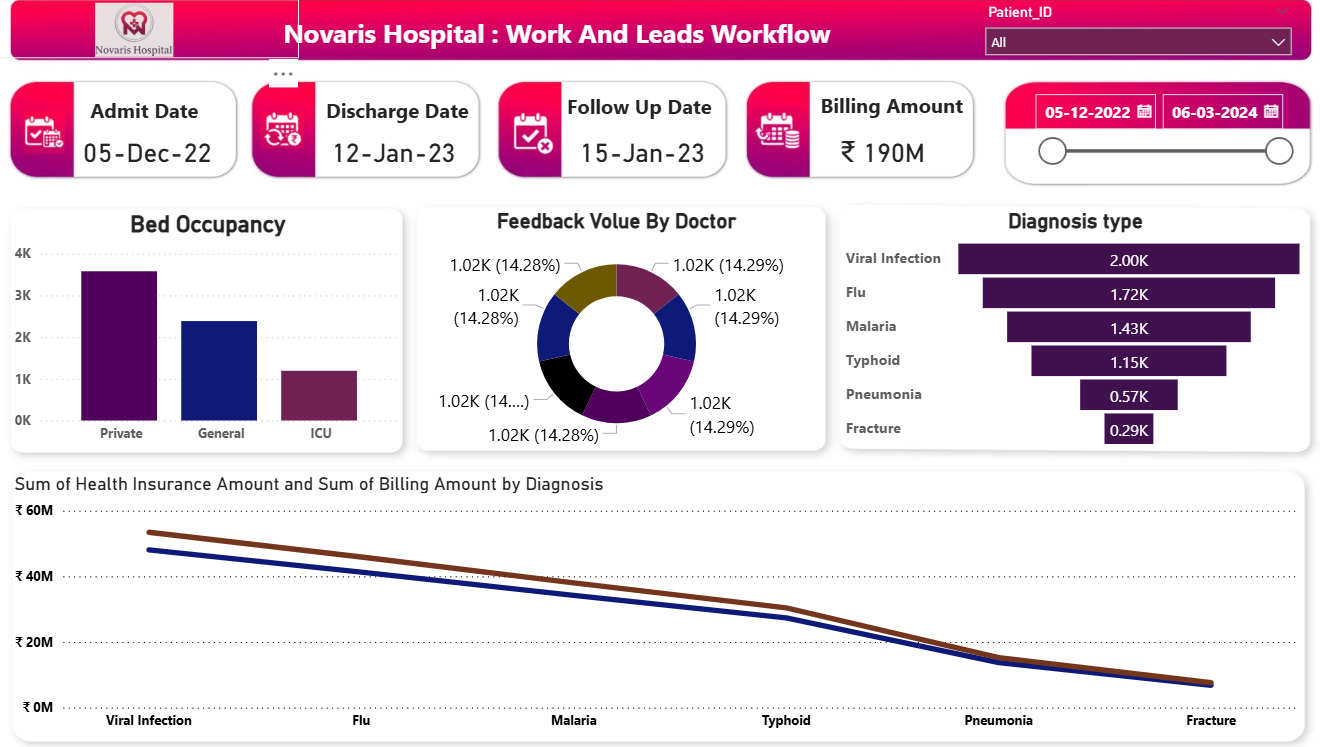

The page's visual inventory and layout, read from the dashboard file:
{"tool":"powerbi","page":{"name":"Page 1","canvas":[1280,720],"ordinal":0},"visuals":[{"type":"slicer","fields":{"Values":["Sheet1.Patient_ID"]},"box":[931,15.2,304.9,54.9],"z":0},{"type":"textbox","box":[144.2,25.6,797.7,44.2],"z":1000},{"type":"card","fields":{"Values":["Min(Sheet1.Admit_Date)"]},"box":[82.6,132.6,153.5,48.8],"z":2000},{"type":"textbox","box":[543,101.2,153.5,39.5],"z":3000},{"type":"textbox","box":[311.6,101.2,166.3,39.5],"z":4000},{"type":"card","fields":{"Values":["Min(Sheet1.Discharge_Date)"]},"box":[311.6,132.6,153.5,48.8],"z":5000},{"type":"textbox","box":[82.6,101.2,153.5,39.5],"z":6000},{"type":"card","fields":{"Values":["Min(Sheet1.Followup Date)"]},"box":[543,132.6,153.5,48.8],"z":7000},{"type":"textbox","box":[777.9,101.2,153.5,39.5],"z":8000},{"type":"card","fields":{"Values":["Sum(Sheet1.Billing Amount)"]},"box":[766.3,132.6,153.5,48.8],"z":9000},{"type":"slicer","fields":{"Values":["Sheet1.Admit_Date"]},"box":[975.6,93,260.5,80.2],"z":10000},{"type":"columnChart","title":" Bed Occupancy","fields":{"Category":["Sheet1.Bed_Occupancy"],"Y":["CountNonNull(Sheet1.Bed_Occupancy)"]},"box":[33.7,211.6,369.8,225.6],"z":11000},{"type":"donutChart","title":"Feedback Volue By Doctor","fields":{"Category":["Sheet1.Doctor"],"Y":["CountNonNull(Sheet1.Doctor)"]},"box":[416.3,210.5,369.8,226.7],"z":12000},{"type":"funnel","title":"Diagnosis type","fields":{"Category":["Sheet1.Diagnosis"],"Y":["CountNonNull(Sheet1.Diagnosis)"]},"box":[807,210.5,437.2,226.7],"z":13000},{"type":"lineChart","fields":{"Y":["Sum(Sheet1.Health Insurance Amount)","Sum(Sheet1.Billing Amount)"],"Category":["Sheet1.Diagnosis"]},"box":[33.7,454.7,1202.3,249],"z":14000},{"type":"image","box":[43,107,45.3,64],"z":15000},{"type":"image","box":[253,119.8,65,34],"z":16000},{"type":"image","box":[486,118.6,72.1,41.9],"z":17000},{"type":"image","box":[723.3,114,54.7,46.5],"z":17001},{"type":"image","box":[0,15.1,304,54.7],"z":17002}]}

Visuals, with their boxes in screenshot pixels (x1, y1, x2, y2), scaled from the page's 1280x720 canvas onto the 1320x747 screenshot:
slicer - Sheet1.Patient_ID: Rect(960, 16, 1275, 73)
textbox: Rect(149, 27, 971, 72)
card - Min(Sheet1.Admit_Date): Rect(85, 138, 243, 188)
textbox: Rect(560, 105, 718, 146)
textbox: Rect(321, 105, 493, 146)
card - Min(Sheet1.Discharge_Date): Rect(321, 138, 480, 188)
textbox: Rect(85, 105, 243, 146)
card - Min(Sheet1.Followup Date): Rect(560, 138, 718, 188)
textbox: Rect(802, 105, 961, 146)
card - Sum(Sheet1.Billing Amount): Rect(790, 138, 949, 188)
slicer - Sheet1.Admit_Date: Rect(1006, 96, 1275, 180)
" Bed Occupancy" columnChart: Rect(35, 220, 416, 454)
"Feedback Volue By Doctor" donutChart: Rect(429, 218, 811, 454)
"Diagnosis type" funnel: Rect(832, 218, 1283, 454)
lineChart - Sum(Sheet1.Health Insurance Amount) x Sum(Sheet1.Billing Amount): Rect(35, 472, 1275, 730)
image: Rect(44, 111, 91, 177)
image: Rect(261, 124, 328, 160)
image: Rect(501, 123, 576, 167)
image: Rect(746, 118, 802, 167)
image: Rect(0, 16, 314, 72)
